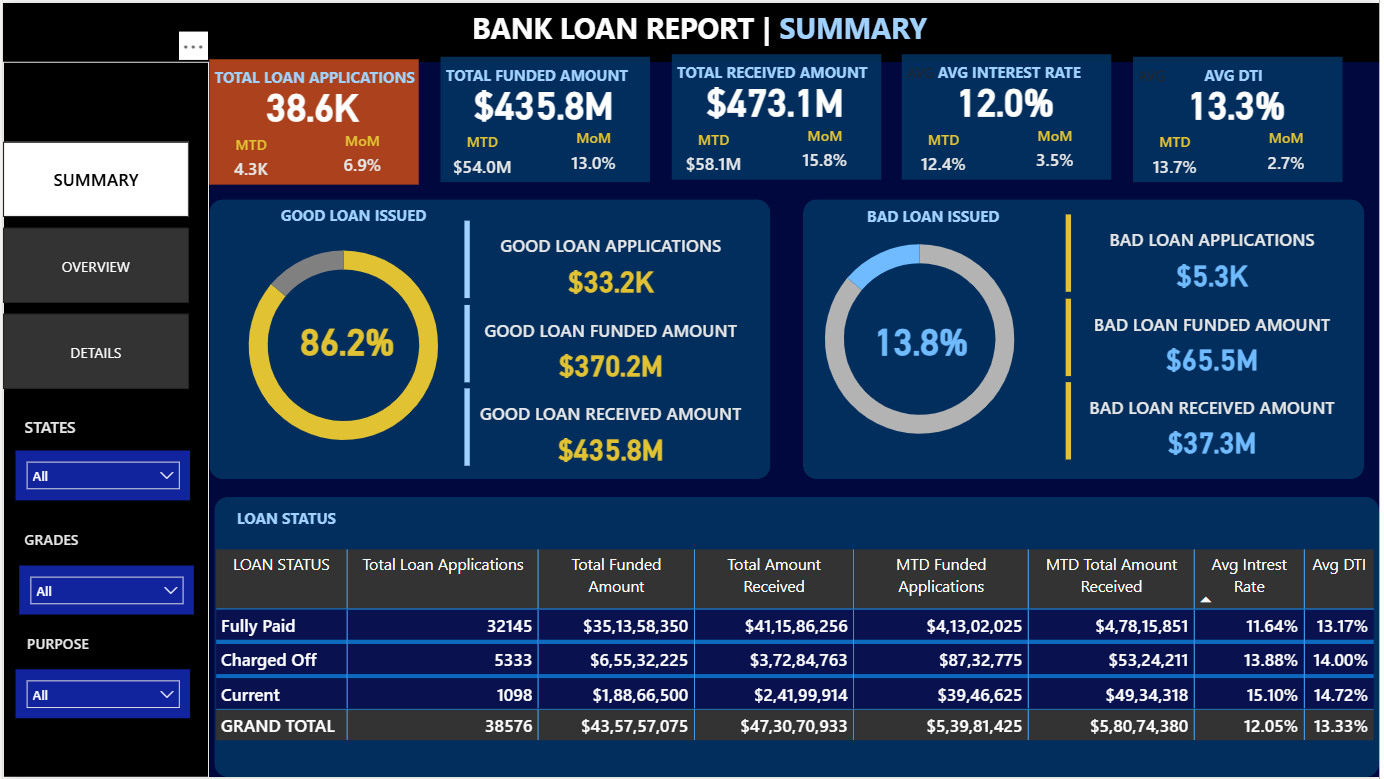

What the dashboard file says about the page in this screenshot:
{"tool":"powerbi","page":{"name":"SUMMARY","canvas":[1280,720],"ordinal":0},"visuals":[{"type":"shape","box":[0,0,1280.3,54.9],"z":0},{"type":"shape","box":[621.5,47.7,194.9,116.6],"z":0,"group":"g3"},{"type":"shape","box":[836.3,47.7,194.9,116.6],"z":0,"group":"g4"},{"type":"shape","box":[406.7,50,194.9,116.6],"z":0,"group":"g2"},{"type":"shape","box":[1051.2,50,194.9,116.6],"z":0,"group":"g5"},{"type":"shape","box":[191.9,52.3,194.9,116.6],"z":0,"group":"g1"},{"type":"card","fields":{"Values":["Bank_Loan_Data.Total Amount Received"]},"box":[621.5,51.8,192.1,75.5],"z":1000,"group":"g3"},{"type":"card","fields":{"Values":["Bank_Loan_Data.Avg Intrest Rate"]},"box":[836.3,51.8,192.1,75.5],"z":1000,"group":"g4"},{"type":"card","fields":{"Values":["Bank_Loan_Data.Total Funded Amount"]},"box":[406.7,54.1,192.1,75.5],"z":1000,"group":"g2"},{"type":"card","fields":{"Values":["Bank_Loan_Data.Avg DTI"]},"box":[1051.2,54.1,192.1,75.5],"z":1000,"group":"g5"},{"type":"shape","box":[0,54.9,192,665.5],"z":1000},{"type":"card","fields":{"Values":["Bank_Loan_Data.TOTAL LOAN APPLICATIONS"]},"box":[191.9,56.4,192.1,75.5],"z":1000,"group":"g1"},{"type":"textbox","box":[621.5,50.4,205.8,38.4],"z":2000,"group":"g3"},{"type":"textbox","box":[836.3,50.4,205.8,38.4],"z":2000,"group":"g4"},{"type":"textbox","box":[406.7,52.7,205.8,38.4],"z":2000,"group":"g2"},{"type":"textbox","box":[1051.2,52.7,205.8,38.4],"z":2000,"group":"g5"},{"type":"textbox","box":[191.9,55,205.8,38.4],"z":2000,"group":"g1"},{"type":"shape","box":[191.9,182.6,522.1,260.5],"z":2000},{"type":"card","title":"MTD","fields":{"Values":["Bank_Loan_Data.MTD Total Amount Received"]},"box":[621.5,117.7,78.2,50.8],"z":3000,"group":"g3"},{"type":"card","title":"MTD","fields":{"Values":["Bank_Loan_Data.MTD Avg Interest Rate"]},"box":[836.3,117.7,78.2,50.8],"z":3000,"group":"g4"},{"type":"card","title":"MTD","fields":{"Values":["Bank_Loan_Data.MTD Funded Applications"]},"box":[406.7,120,78.2,50.8],"z":3000,"group":"g2"},{"type":"card","title":"MTD","fields":{"Values":["Bank_Loan_Data.MTD Avg DTI"]},"box":[1051.2,120,78.2,50.8],"z":3000,"group":"g5"},{"type":"card","title":"MTD","fields":{"Values":["Bank_Loan_Data.MTD Loan Applications"]},"box":[191.9,122.3,78.2,50.8],"z":3000,"group":"g1"},{"type":"textbox","box":[15,378.8,72.5,37.5],"z":3000},{"type":"card","title":"MoM","fields":{"Values":["Bank_Loan_Data.MoM Total Amount Received"]},"box":[724.4,113.6,78.2,50.8],"z":4000,"group":"g3"},{"type":"card","title":"MoM","fields":{"Values":["Bank_Loan_Data.MoM Avg Interest Rate"]},"box":[939.2,113.6,78.2,50.8],"z":4000,"group":"g4"},{"type":"card","title":"MoM","fields":{"Values":["Bank_Loan_Data.MoM Total Funded Amount"]},"box":[509.6,115.9,78.2,50.8],"z":4000,"group":"g2"},{"type":"card","title":"MoM","fields":{"Values":["Bank_Loan_Data.MoM Avg DTI"]},"box":[1154.1,115.9,78.2,50.8],"z":4000,"group":"g5"},{"type":"card","title":"MoM","fields":{"Values":["Bank_Loan_Data.MoM Loan Applications"]},"box":[294.8,118.2,78.2,50.8],"z":4000,"group":"g1"},{"type":"card","fields":{"Values":["Bank_Loan_Data.GOOD LOAN %"]},"box":[239.5,275.6,161.6,74.4],"z":4000},{"type":"textbox","box":[218.6,182.6,205.8,38.4],"z":5000},{"type":"textbox","box":[430.9,0,517.3,52.1],"z":6000},{"type":"group","id":"g1","title":"Group 1","box":[191.9,52.3,205.8,120.9],"z":7000},{"type":"group","id":"g2","title":"Group 1","box":[406.7,50,205.8,120.9],"z":8000},{"type":"group","id":"g3","title":"Group 1","box":[621.5,47.7,205.8,120.9],"z":9000},{"type":"group","id":"g4","title":"Group 1","box":[836.3,47.7,205.8,120.9],"z":10000},{"type":"group","id":"g5","title":"Group 1","box":[1051.2,50,205.8,120.9],"z":11000},{"type":"shape","box":[744.2,182.6,522.1,260.5],"z":12000},{"type":"donutChart","fields":{"Category":["Bank_Loan_Data.GOOD VS BAD LOAN"],"Y":["Bank_Loan_Data.TOTAL LOAN APPLICATIONS"]},"box":[191.9,203.5,250,230.2],"z":13000},{"type":"cardVisual","fields":{"Data":["Bank_Loan_Data.GOOD LOAN APPLICATIONS","Bank_Loan_Data.GOOD LOAN FUNDED AMOUNT","Bank_Loan_Data.GOOD LOAN RECEIVED AMOUNT"]},"box":[424.4,197.7,282.6,240.7],"z":14000},{"type":"donutChart","fields":{"Category":["Bank_Loan_Data.GOOD VS BAD LOAN"],"Y":["Bank_Loan_Data.TOTAL LOAN APPLICATIONS"]},"box":[727.9,197.7,250,230.2],"z":15000},{"type":"textbox","box":[764,183.7,205.8,38.4],"z":16000},{"type":"shape","box":[196,459.7,1083.7,260.9],"z":17000},{"type":"card","fields":{"Values":["Bank_Loan_Data.BAD LOAN %"]},"box":[773.3,275.6,161.6,74.4],"z":18000},{"type":"cardVisual","fields":{"Data":["Bank_Loan_Data.BAD LOAN APPLICATIONS","Bank_Loan_Data.BAD LOAN FUNDED AMOUNT","Bank_Loan_Data.BAD LOAN RECEIVED AMOUNT"]},"box":[983.7,191.9,282.6,240.7],"z":19000},{"type":"tableEx","fields":{"Values":["Bank_Loan_Data.loan_status","Bank_Loan_Data.TOTAL LOAN APPLICATIONS","Bank_Loan_Data.Total Funded Amount","Bank_Loan_Data.Total Amount Received","Bank_Loan_Data.MTD Funded Applications","Bank_Loan_Data.MTD Total Amount Received","Bank_Loan_Data.Avg Intrest Rate","Bank_Loan_Data.Avg DTI"]},"box":[191.9,503.5,1088.4,216.3],"z":20000},{"type":"textbox","box":[177.9,465.1,205.8,38.4],"z":21000},{"type":"slicer","fields":{"Values":["Bank_Loan_Data.Address_State"]},"box":[12,416.2,162.5,46.2],"z":22000},{"type":"slicer","fields":{"Values":["Bank_Loan_Data.Grade"]},"box":[15.1,523.3,162.8,45.3],"z":22001},{"type":"textbox","box":[15.1,484.9,73.3,38.4],"z":22002},{"type":"slicer","fields":{"Values":["Bank_Loan_Data.purpose"]},"box":[11.1,619.4,162.8,45.3],"z":22003},{"type":"textbox","box":[17.5,581.2,78.8,38.8],"z":22004},{"type":"pageNavigator","box":[0,128.8,173.8,231.2],"z":22005}]}

Visuals, with their boxes in screenshot pixels (x1, y1, x2, y2), scaled from the page's 1280x720 canvas onto the 1384x779 screenshot:
shape: pyautogui.locateOnScreen(0, 0, 1383, 59)
shape: pyautogui.locateOnScreen(672, 52, 883, 178)
shape: pyautogui.locateOnScreen(904, 52, 1115, 178)
shape: pyautogui.locateOnScreen(440, 54, 650, 180)
shape: pyautogui.locateOnScreen(1137, 54, 1347, 180)
shape: pyautogui.locateOnScreen(207, 57, 418, 183)
card - Bank_Loan_Data.Total Amount Received: pyautogui.locateOnScreen(672, 56, 880, 138)
card - Bank_Loan_Data.Avg Intrest Rate: pyautogui.locateOnScreen(904, 56, 1112, 138)
card - Bank_Loan_Data.Total Funded Amount: pyautogui.locateOnScreen(440, 59, 647, 140)
card - Bank_Loan_Data.Avg DTI: pyautogui.locateOnScreen(1137, 59, 1344, 140)
shape: pyautogui.locateOnScreen(0, 59, 208, 778)
card - Bank_Loan_Data.TOTAL LOAN APPLICATIONS: pyautogui.locateOnScreen(207, 61, 415, 143)
textbox: pyautogui.locateOnScreen(672, 55, 895, 96)
textbox: pyautogui.locateOnScreen(904, 55, 1127, 96)
textbox: pyautogui.locateOnScreen(440, 57, 662, 99)
textbox: pyautogui.locateOnScreen(1137, 57, 1359, 99)
textbox: pyautogui.locateOnScreen(207, 60, 430, 101)
shape: pyautogui.locateOnScreen(207, 198, 772, 479)
"MTD" card: pyautogui.locateOnScreen(672, 127, 757, 182)
"MTD" card: pyautogui.locateOnScreen(904, 127, 989, 182)
"MTD" card: pyautogui.locateOnScreen(440, 130, 524, 185)
"MTD" card: pyautogui.locateOnScreen(1137, 130, 1221, 185)
"MTD" card: pyautogui.locateOnScreen(207, 132, 292, 187)
textbox: pyautogui.locateOnScreen(16, 410, 95, 450)
"MoM" card: pyautogui.locateOnScreen(783, 123, 868, 178)
"MoM" card: pyautogui.locateOnScreen(1016, 123, 1100, 178)
"MoM" card: pyautogui.locateOnScreen(551, 125, 636, 180)
"MoM" card: pyautogui.locateOnScreen(1248, 125, 1332, 180)
"MoM" card: pyautogui.locateOnScreen(319, 128, 403, 183)
card - Bank_Loan_Data.GOOD LOAN %: pyautogui.locateOnScreen(259, 298, 434, 379)
textbox: pyautogui.locateOnScreen(236, 198, 459, 239)
textbox: pyautogui.locateOnScreen(466, 0, 1025, 56)
"Group 1" group: pyautogui.locateOnScreen(207, 57, 430, 187)
"Group 1" group: pyautogui.locateOnScreen(440, 54, 662, 185)
"Group 1" group: pyautogui.locateOnScreen(672, 52, 895, 182)
"Group 1" group: pyautogui.locateOnScreen(904, 52, 1127, 182)
"Group 1" group: pyautogui.locateOnScreen(1137, 54, 1359, 185)
shape: pyautogui.locateOnScreen(805, 198, 1369, 479)
donutChart - Bank_Loan_Data.GOOD VS BAD LOAN x Bank_Loan_Data.TOTAL LOAN APPLICATIONS: pyautogui.locateOnScreen(207, 220, 478, 469)
cardVisual - Bank_Loan_Data.GOOD LOAN APPLICATIONS x Bank_Loan_Data.GOOD LOAN FUNDED AMOUNT: pyautogui.locateOnScreen(459, 214, 764, 474)
donutChart - Bank_Loan_Data.GOOD VS BAD LOAN x Bank_Loan_Data.TOTAL LOAN APPLICATIONS: pyautogui.locateOnScreen(787, 214, 1057, 463)
textbox: pyautogui.locateOnScreen(826, 199, 1049, 240)
shape: pyautogui.locateOnScreen(212, 497, 1383, 778)
card - Bank_Loan_Data.BAD LOAN %: pyautogui.locateOnScreen(836, 298, 1011, 379)
cardVisual - Bank_Loan_Data.BAD LOAN APPLICATIONS x Bank_Loan_Data.BAD LOAN FUNDED AMOUNT: pyautogui.locateOnScreen(1064, 208, 1369, 468)
tableEx - Bank_Loan_Data.loan_status x Bank_Loan_Data.TOTAL LOAN APPLICATIONS: pyautogui.locateOnScreen(207, 545, 1383, 778)
textbox: pyautogui.locateOnScreen(192, 503, 415, 545)
slicer - Bank_Loan_Data.Address_State: pyautogui.locateOnScreen(13, 450, 189, 500)
slicer - Bank_Loan_Data.Grade: pyautogui.locateOnScreen(16, 566, 192, 615)
textbox: pyautogui.locateOnScreen(16, 525, 96, 566)
slicer - Bank_Loan_Data.purpose: pyautogui.locateOnScreen(12, 670, 188, 719)
textbox: pyautogui.locateOnScreen(19, 629, 104, 671)
pageNavigator: pyautogui.locateOnScreen(0, 139, 188, 390)
